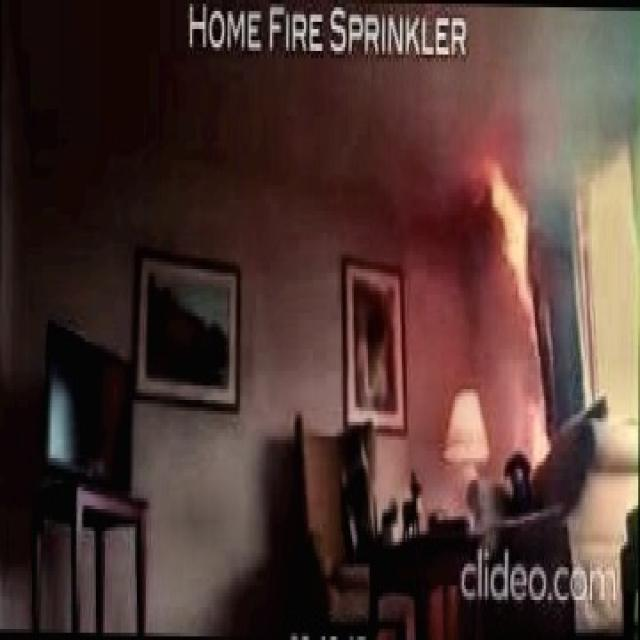fire: (451, 111, 548, 307)
